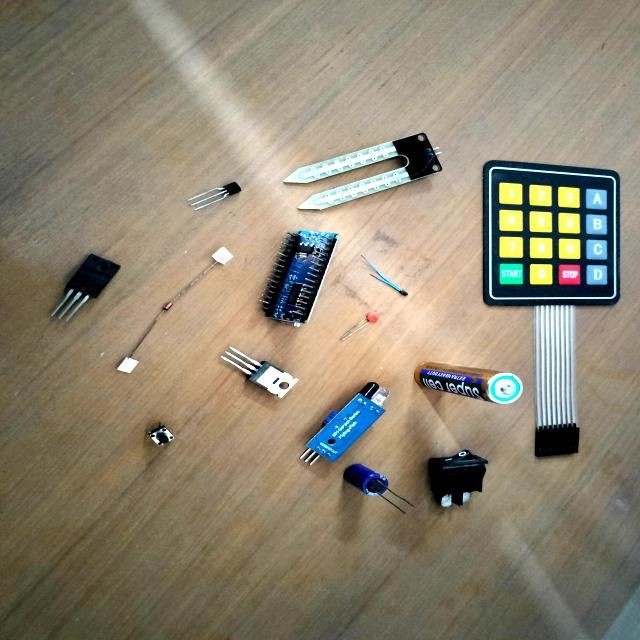capacitor: (343, 464, 388, 496), (366, 313, 378, 323)
